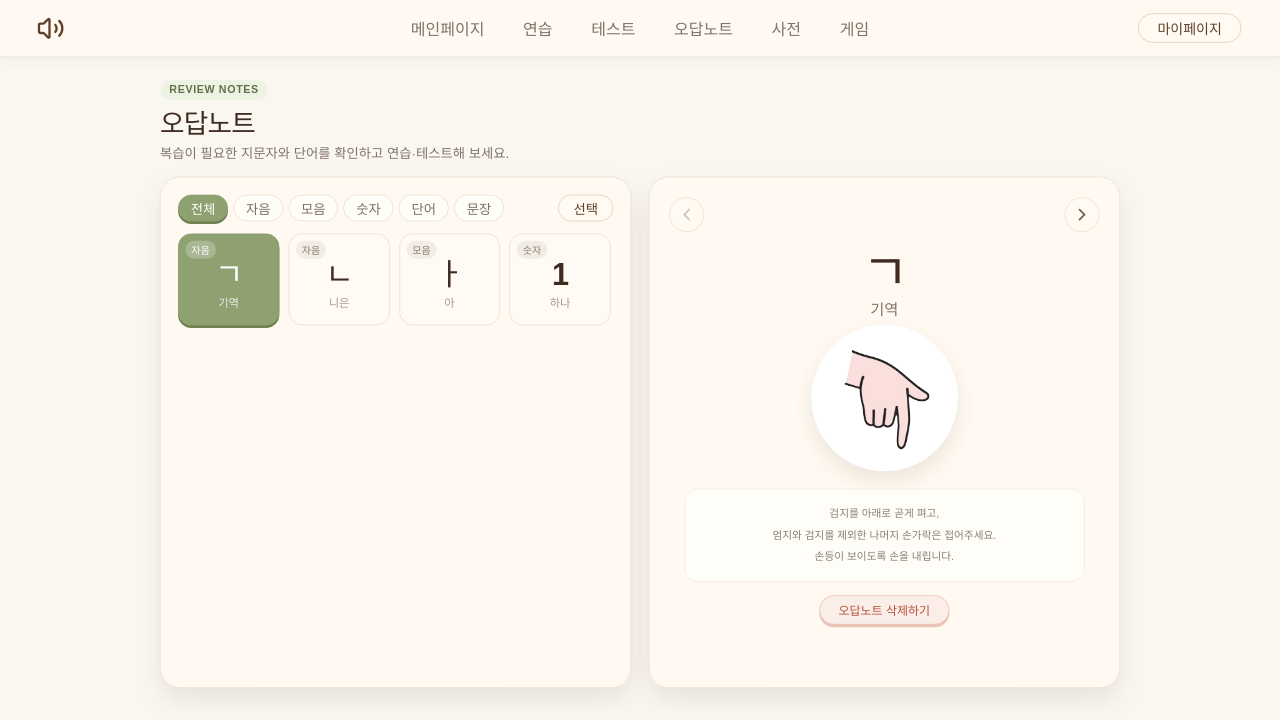
it: ReviewNotesPage 다중 선택 › 전체 선택은 선택 모드에서만 보인다
Check: the button "전체 선택" is not shown
Step 1. Click the button "선택" → point(586, 208), box [558,195,613,221]
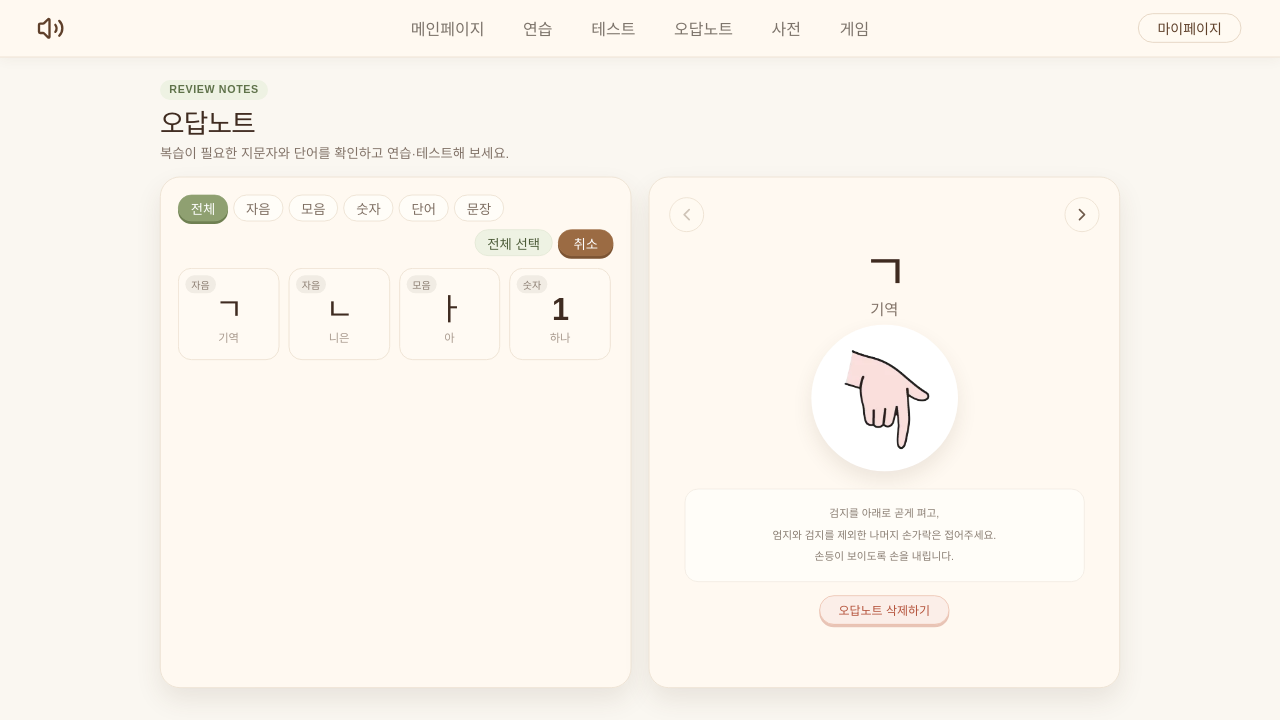
Check: the button "전체 선택" is shown, box [475,229,553,256]
